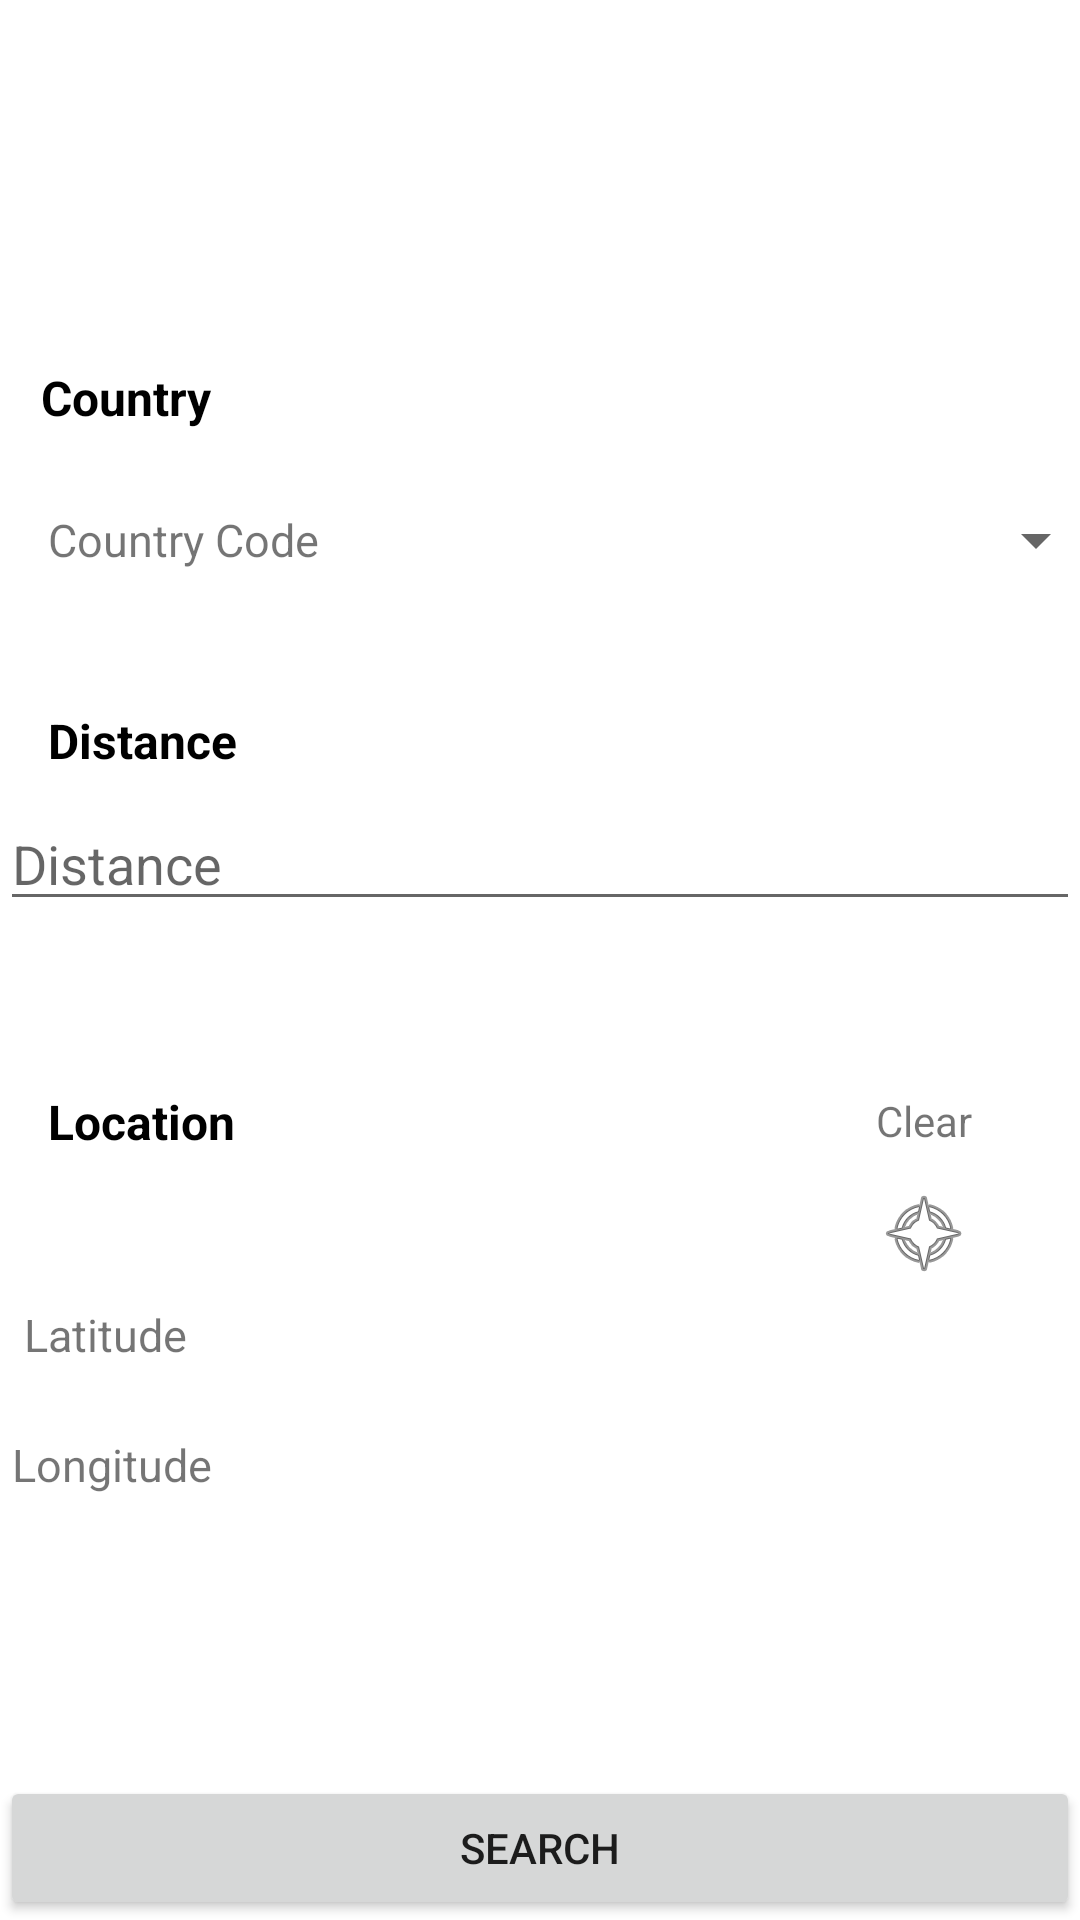

Locate icon controls on the screen. Image size 1080 x 1920, boxes as (x1, y1, x2, y2).
compass: (886, 1196, 962, 1271)
